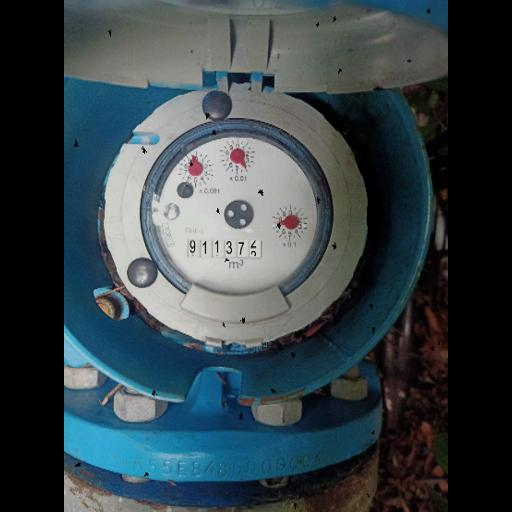1: (201, 239, 212, 257), (213, 241, 223, 258)
2: (250, 241, 261, 258)
3: (225, 240, 236, 257)
7: (237, 241, 249, 258)
9: (188, 240, 200, 257)
border_water_meter_number: (187, 238, 263, 258)
